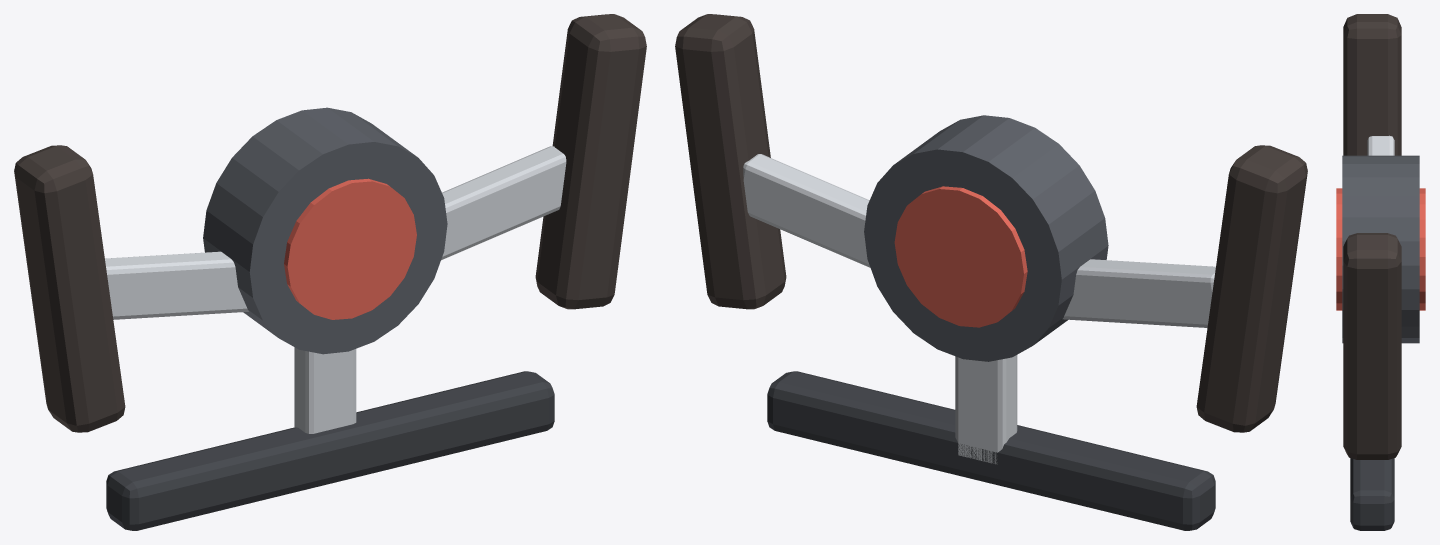
File: steering_wheel.glb
The picture shows the model from 3 angles, left to right: view 1: azimuth 30°, elevation 25°; view 2: azimuth 150°, elevation 25°; view 3: azimuth 270°, elevation 25°; orthographic projection. The views are drawn at different scales.
Visible parts, largest first — view 1: WheelHub, BottomFlatRim, GripRight, GripLeft, WheelHornCap, SpokeLeft, SpokeRight, SpokeBottom; view 2: WheelHub, BottomFlatRim, GripLeft, GripRight, WheelHornCap, SpokeLeft, SpokeRight, SpokeBottom; view 3: GripRight, WheelHub, GripLeft, BottomFlatRim, WheelHornCap, SpokeLeft.
Part boxes in pixels (box(x1,y1,x2,y2)): WheelHub: box(203, 107, 447, 354); BottomFlatRim: box(106, 371, 554, 530); GripRight: box(535, 14, 646, 309); GripLeft: box(14, 145, 125, 432); WheelHornCap: box(284, 178, 416, 319); SpokeLeft: box(105, 251, 248, 319); SpokeRight: box(441, 146, 566, 260); SpokeBottom: box(294, 347, 356, 433); WheelHub: box(864, 115, 1108, 361); BottomFlatRim: box(767, 371, 1215, 530); GripLeft: box(1196, 145, 1307, 432); GripRight: box(675, 14, 786, 309); WheelHornCap: box(894, 186, 1027, 327); SpokeLeft: box(1062, 259, 1215, 327); SpokeRight: box(743, 154, 870, 267); SpokeBottom: box(955, 355, 1017, 464); GripRight: box(1343, 233, 1401, 459); WheelHub: box(1342, 155, 1419, 343); GripLeft: box(1343, 14, 1401, 155); BottomFlatRim: box(1350, 458, 1394, 530); WheelHornCap: box(1336, 188, 1425, 310); SpokeLeft: box(1367, 135, 1394, 155).
Size of the model in its own units: 0.3396 by 0.2059 by 0.052.
